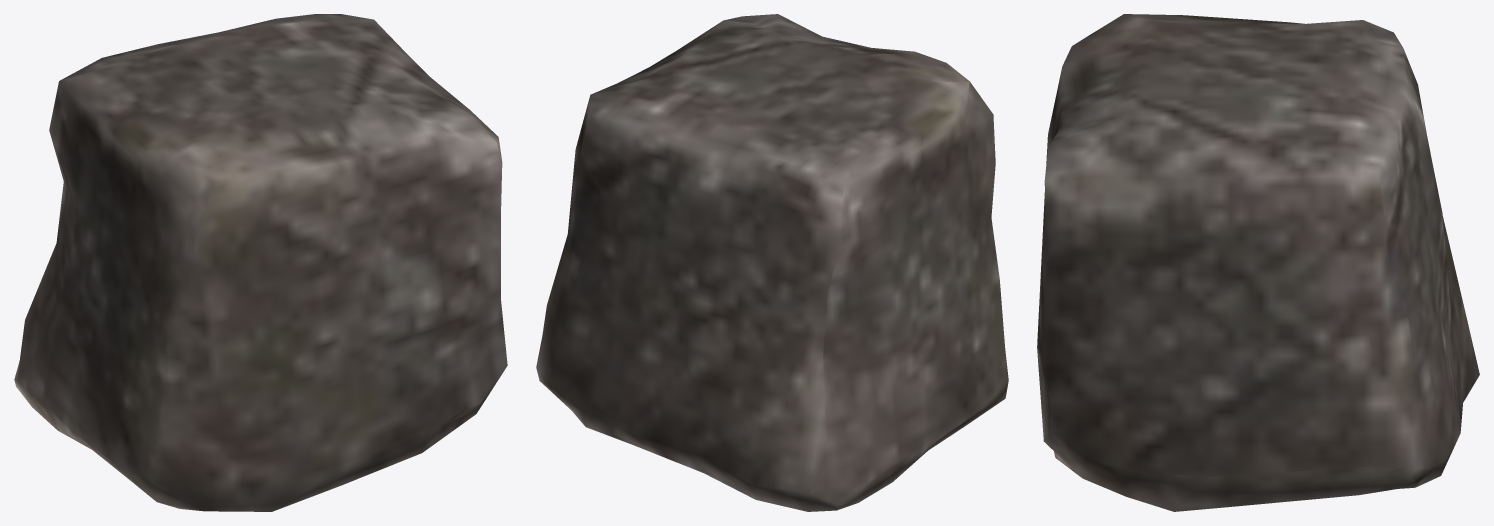
The model's file is Ruins_Stone_A-transformed.glb.
The picture shows the model from 3 angles, left to right: view 1: azimuth 30°, elevation 25°; view 2: azimuth 150°, elevation 25°; view 3: azimuth 270°, elevation 25°; orthographic projection. The views are drawn at different scales.
Parts seen in each view (by area): view 1: default; view 2: default; view 3: default.
Part boxes in pixels (x1,y1,x2,y2): default: (14,14,507,511); default: (536,14,1008,511); default: (1037,14,1479,511).
Size of the model in its own units: 1.03 by 0.9666 by 1.03.
Materials: 1 (1 with a texture image).
